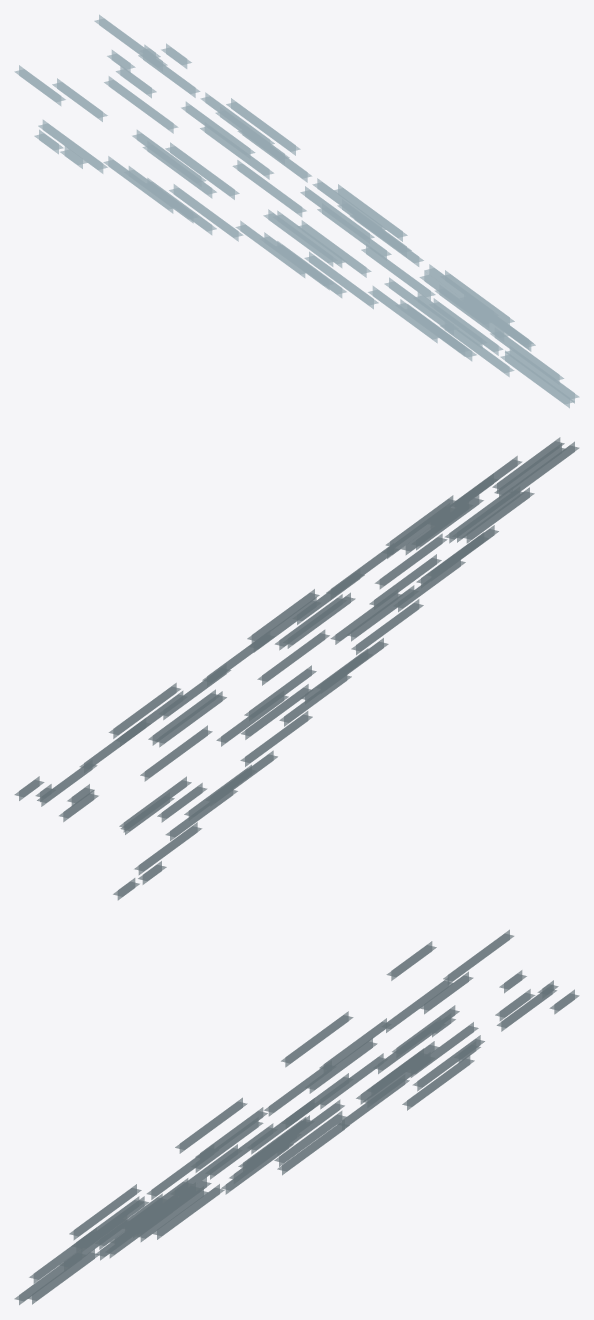
Rendered from wp_water_330.obj.
3 renders of one model, top to bottom at view 1: azimuth 30°, elevation 25°; view 2: azimuth 150°, elevation 25°; view 3: azimuth 330°, elevation 25°, orthographic. The views are drawn at different scales.
Size of the model in its own units: 0.3346 by 0.2716 by 1.8.
Materials: 1 (1 with a texture image).
